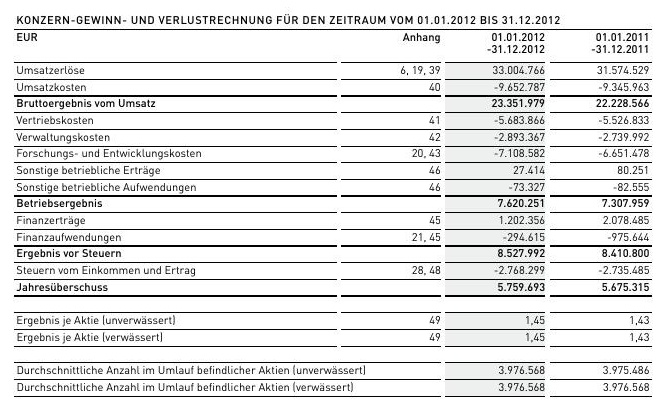table: (0, 0, 661, 411)
